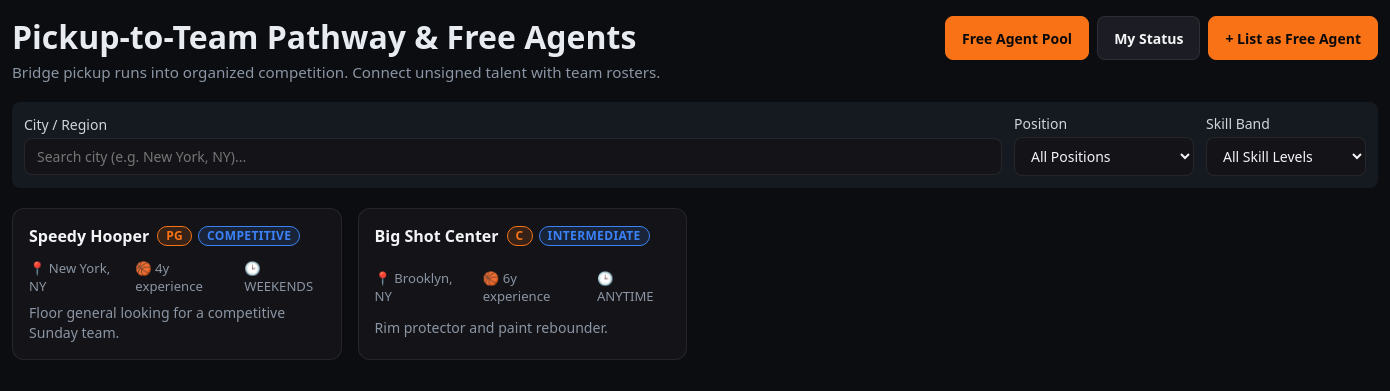
Test case: FreeAgentsView Component (WP-5.5) › switches to My Status tab and displays team invitations
Click the button "My Status": (1149, 38) [1097, 16, 1200, 60]
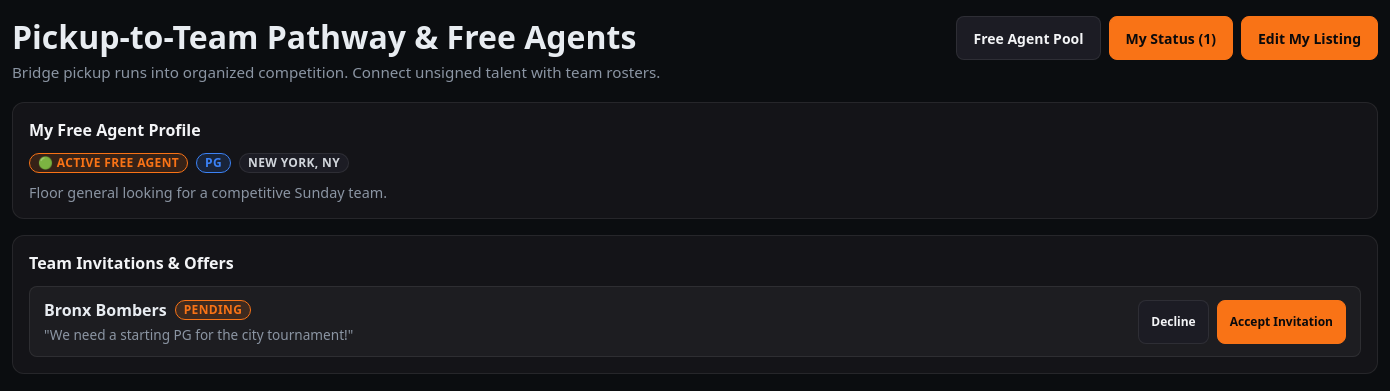
Expected: the text "Bronx Bombers" is shown, [44, 299, 167, 321]
Expected: the text "\"We need a starting PG for the city tournament!\"" is shown, [44, 325, 353, 344]
Expected: the button "Accept Invitation" is shown, [1217, 300, 1346, 344]
